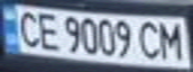0: (78, 15, 100, 56), (97, 16, 118, 56)
9: (57, 14, 84, 54), (112, 18, 139, 58)
C: (136, 19, 166, 60), (12, 7, 42, 48)
E: (33, 10, 63, 52)
M: (157, 19, 187, 61)
